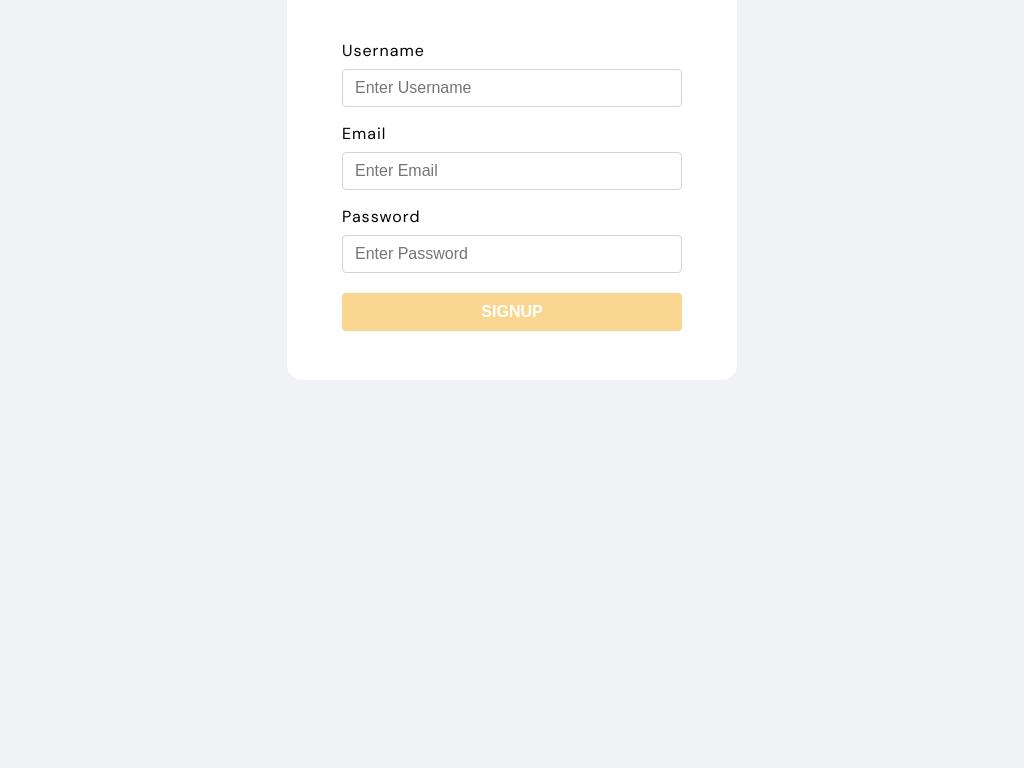
Test: Register › Button › should change label when clicked
The image size is (1024, 768).
Type "manny" into the field labelled "Username".
click(512, 88); type("manny")  # box [342, 69, 682, 107]
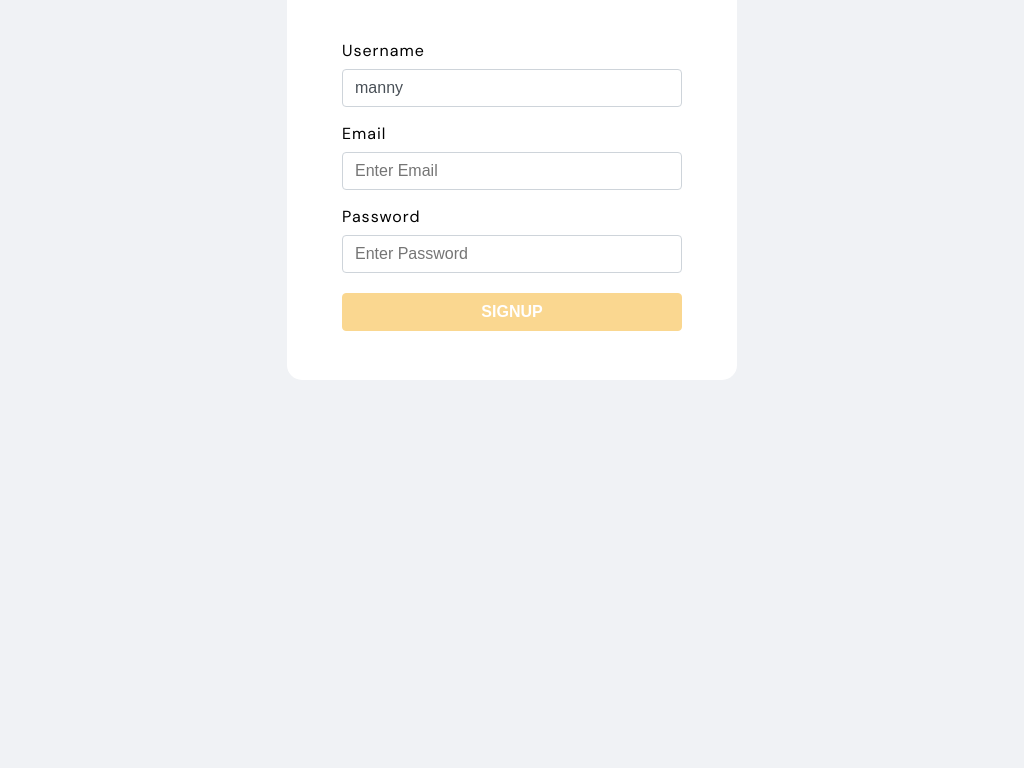
Type "manny@test.com" into the field labelled "Email".
click(512, 171); type("manny@test.com")  # box [342, 152, 682, 190]
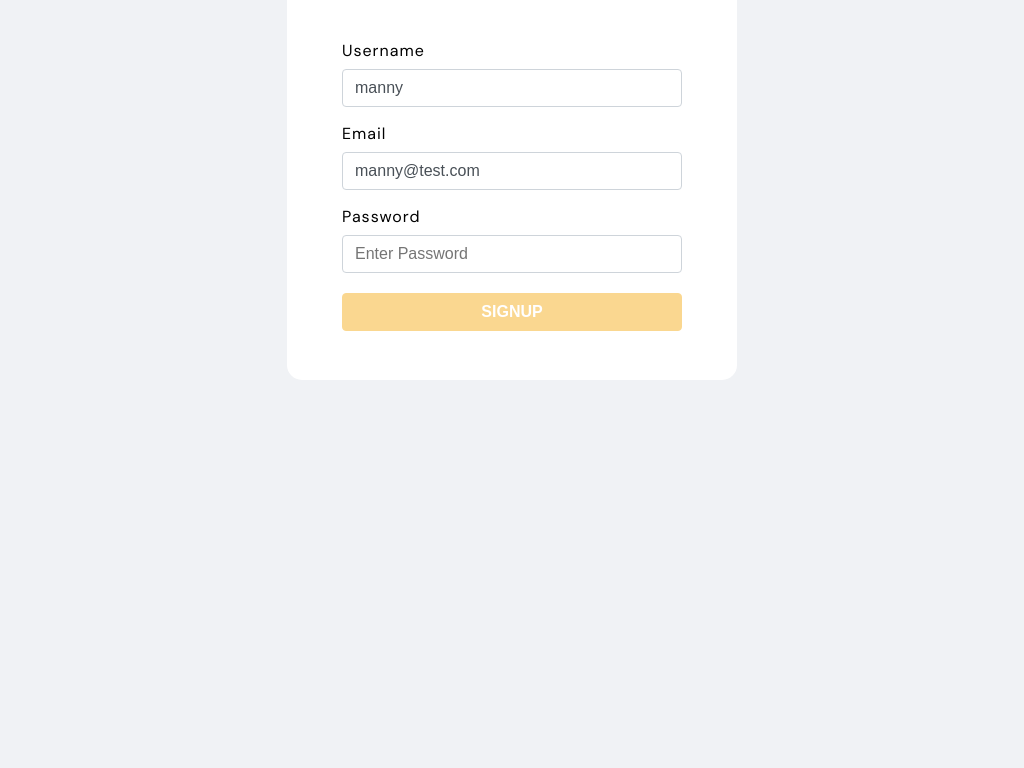
Type "qwerty" into the password field labelled "Password".
click(512, 254); type("qwerty")  # box [342, 235, 682, 273]
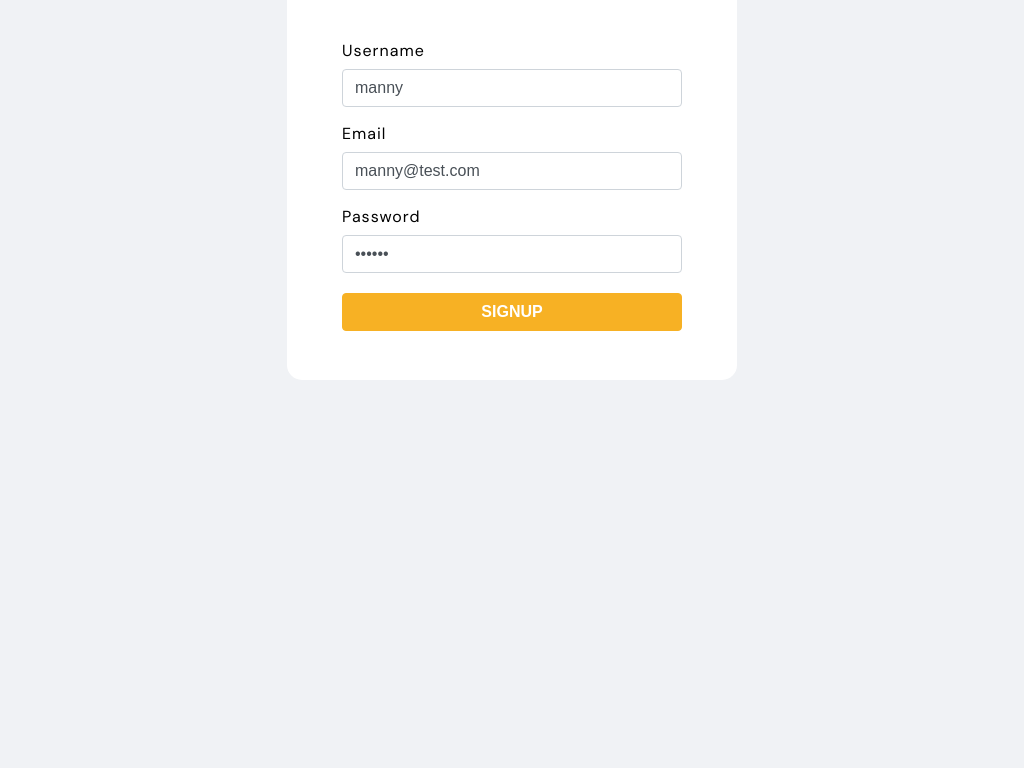
Click the button.
click(512, 312)  # box [342, 293, 682, 331]
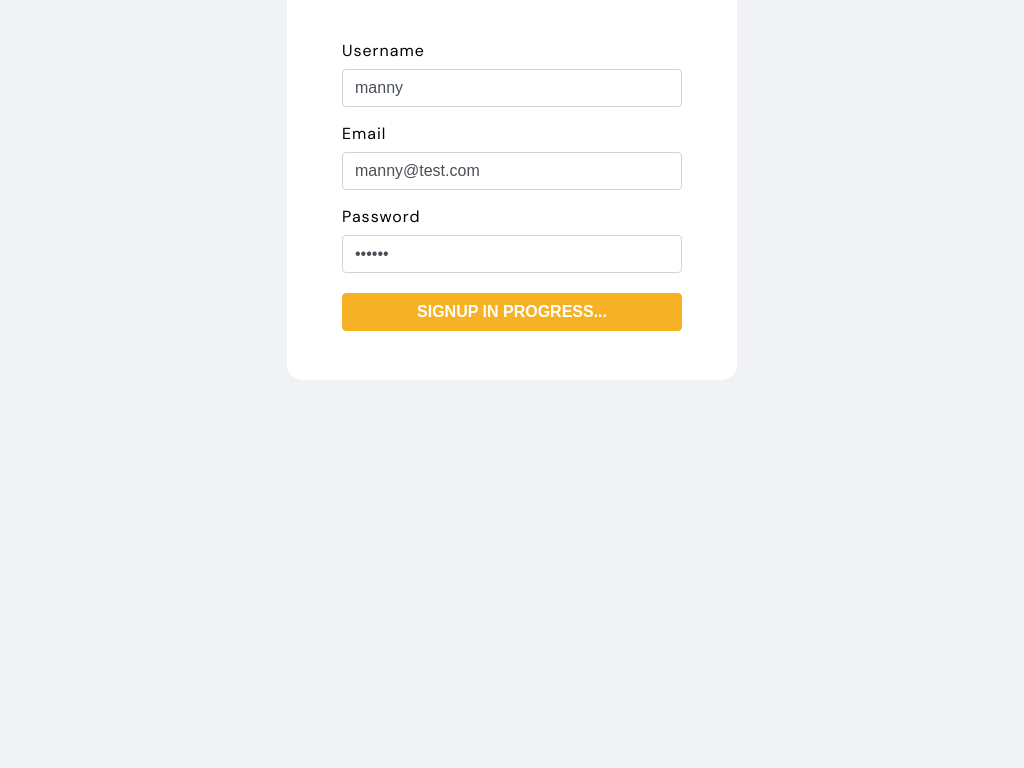
Expected: the button reads "SIGNUP IN PROGRESS...", [342, 293, 682, 331]
